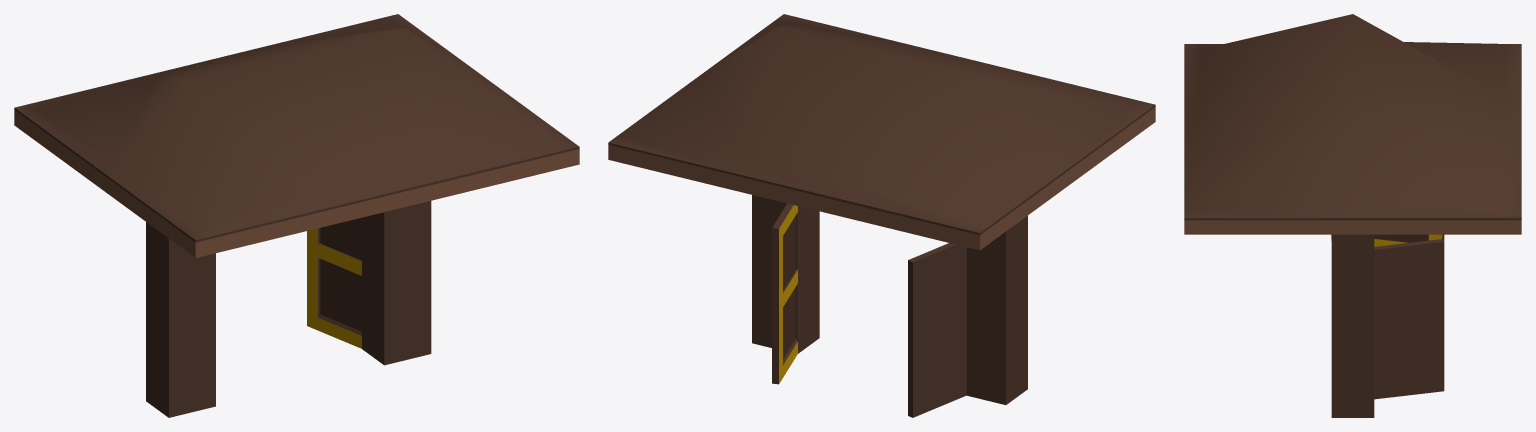
File: FrontSignMarket.fbx
3 views of the same model, side by side, from view 1: azimuth 30°, elevation 25°; view 2: azimuth 150°, elevation 25°; view 3: azimuth 270°, elevation 25° (orthographic). The views are drawn at different scales.
Parts seen in each view (by area): view 1: polySurface298; view 2: polySurface298; view 3: polySurface298.
Part boxes in pixels (x1,y1,x2,y2): polySurface298: (14, 14, 579, 417); polySurface298: (608, 14, 1155, 417); polySurface298: (1184, 14, 1521, 417).
Size of the model in its own units: 11.58 by 9.27 by 9.47.
